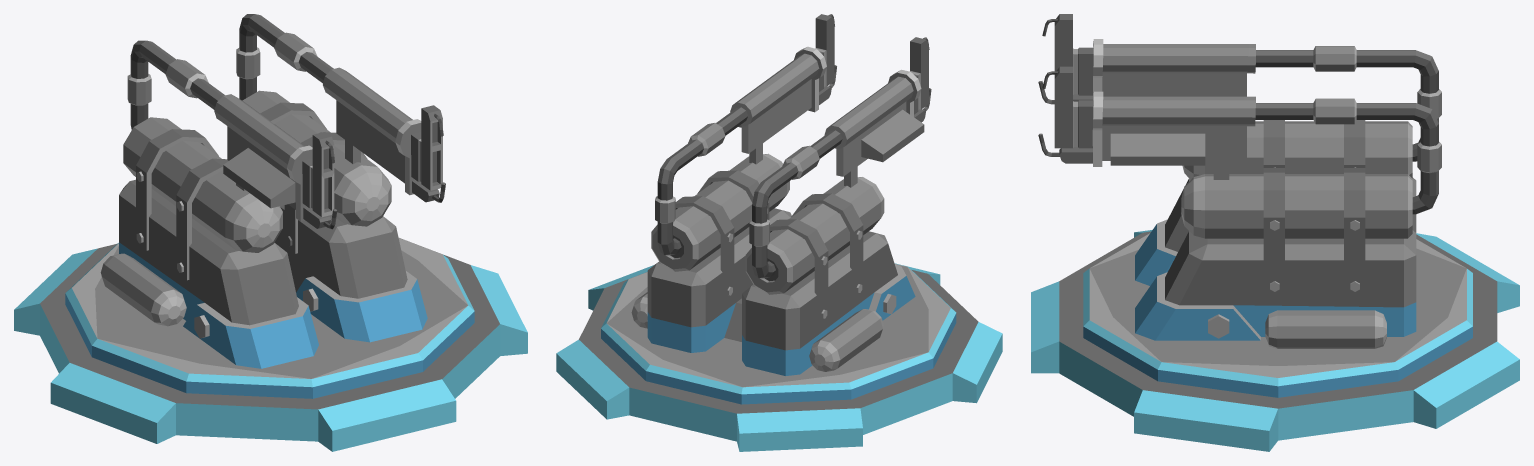
Rendered from tower_napalm_blue_3.fbx.
The picture shows the model from 3 angles, left to right: view 1: azimuth 30°, elevation 25°; view 2: azimuth 150°, elevation 25°; view 3: azimuth 270°, elevation 25°; orthographic projection. The views are drawn at different scales.
Visible parts, largest first — view 1: top_napalm_blue_3, tower_napalm_blue_3; view 2: top_napalm_blue_3, tower_napalm_blue_3; view 3: top_napalm_blue_3, tower_napalm_blue_3.
Part boxes in pixels (bbox=[...]): top_napalm_blue_3: bbox=[100, 14, 445, 368]; tower_napalm_blue_3: bbox=[14, 238, 527, 451]; top_napalm_blue_3: bbox=[631, 14, 931, 375]; tower_napalm_blue_3: bbox=[556, 263, 1002, 451]; top_napalm_blue_3: bbox=[1038, 14, 1441, 348]; tower_napalm_blue_3: bbox=[1031, 230, 1519, 451].
Size of the model in its own units: 190 by 122 by 181.
